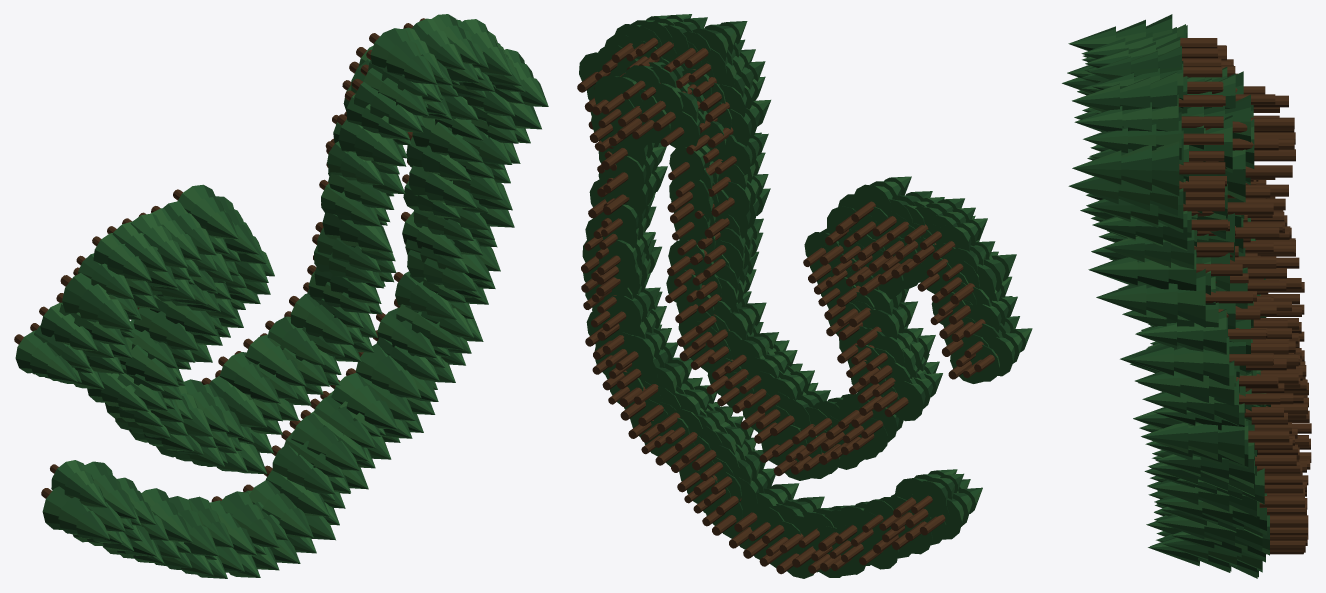
The model's file is woodland_patches.obj.
The picture shows the model from 3 angles, left to right: view 1: azimuth 30°, elevation 25°; view 2: azimuth 150°, elevation 25°; view 3: azimuth 270°, elevation 25°; orthographic projection. The views are drawn at different scales.
Visible parts, largest first — view 1: woodland_patches; view 2: woodland_patches; view 3: woodland_patches.
Boxes of the visible parts, x1=… form: woodland_patches: x1=14, y1=14, x2=548, y2=578; woodland_patches: x1=577, y1=14, x2=1032, y2=578; woodland_patches: x1=1062, y1=14, x2=1311, y2=578.
Bounding box in the file's own units: 30.82 × 32 × 11.67.
